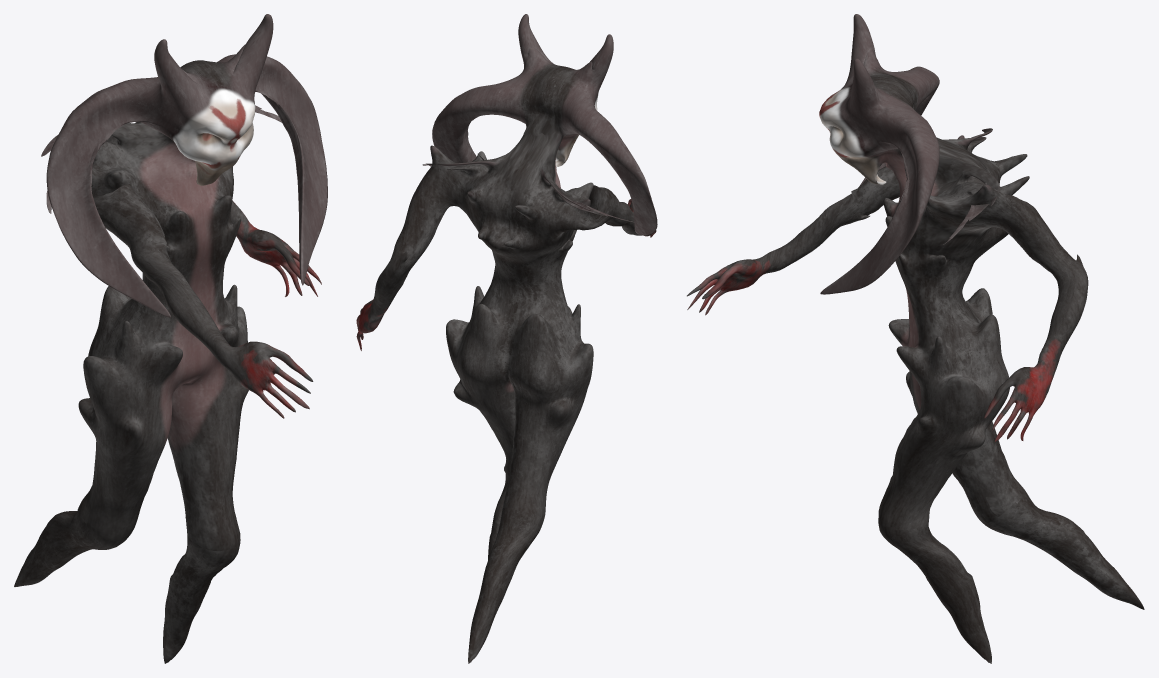
File: Pose_Creature.fbx
3 views of the same model, side by side, from view 1: azimuth 30°, elevation 25°; view 2: azimuth 150°, elevation 25°; view 3: azimuth 270°, elevation 25° (orthographic). The views are drawn at different scales.
Parts seen in each view (by area): view 1: Creature2; view 2: Creature2; view 3: Creature2.
Part boxes in pixels (x1,y1,x2,y2): Creature2: (14, 14, 327, 663); Creature2: (356, 14, 657, 663); Creature2: (687, 14, 1144, 663).
Size of the model in its own units: 53.43 by 112 by 75.44.
